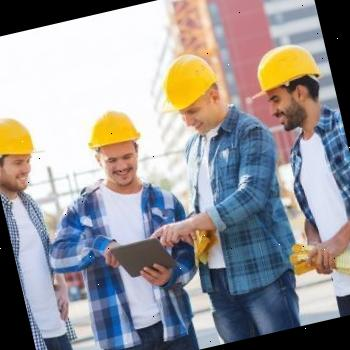helmet: (243, 37, 325, 100), (154, 46, 226, 116), (82, 103, 144, 153), (0, 111, 39, 165)
no_wear: (64, 178, 197, 348), (176, 122, 296, 270), (284, 119, 350, 303), (1, 187, 75, 346)
